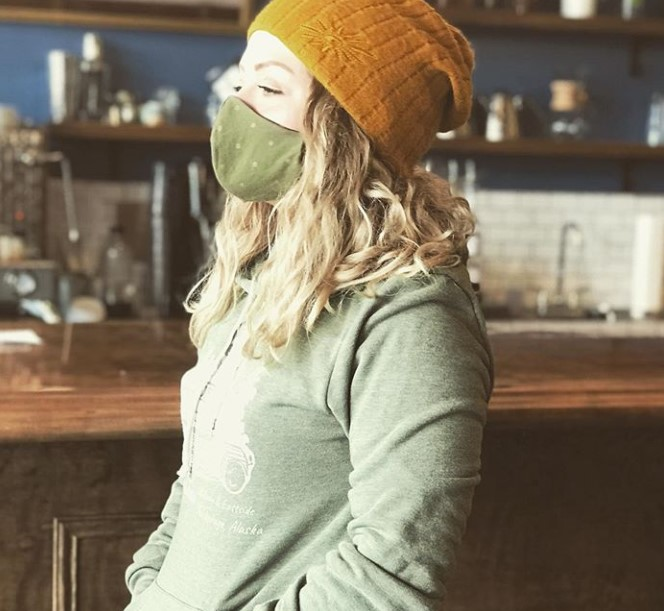face_with_mask: (204, 1, 478, 213)
